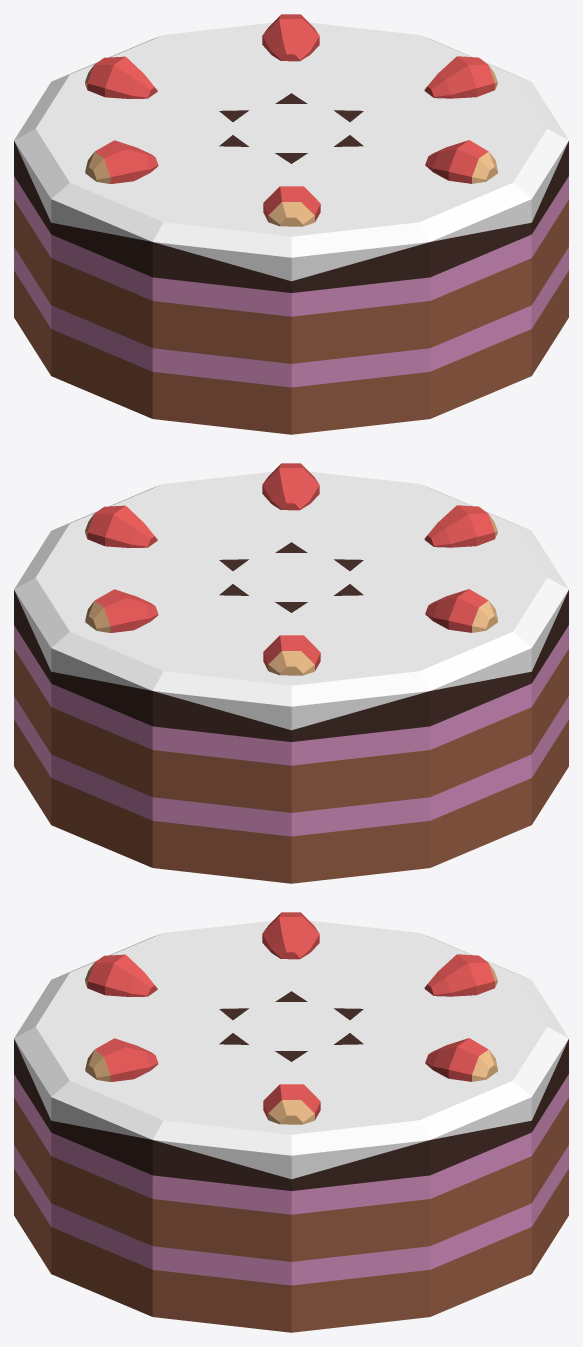
Rendered from cake.dae.
The picture shows the model from 3 angles, top to bottom: view 1: azimuth 30°, elevation 25°; view 2: azimuth 150°, elevation 25°; view 3: azimuth 270°, elevation 25°; orthographic projection.
Visible parts, largest first — view 1: slice (×6); view 2: slice (×6); view 3: slice (×6).
Boxes of the visible parts, box(x1,y1,x2,y2) form: slice (×6): box(14, 14, 568, 434); slice (×6): box(14, 463, 568, 883); slice (×6): box(14, 912, 568, 1332).
Bounding box in the file's own units: 0.6392 × 0.2731 × 0.6392.
